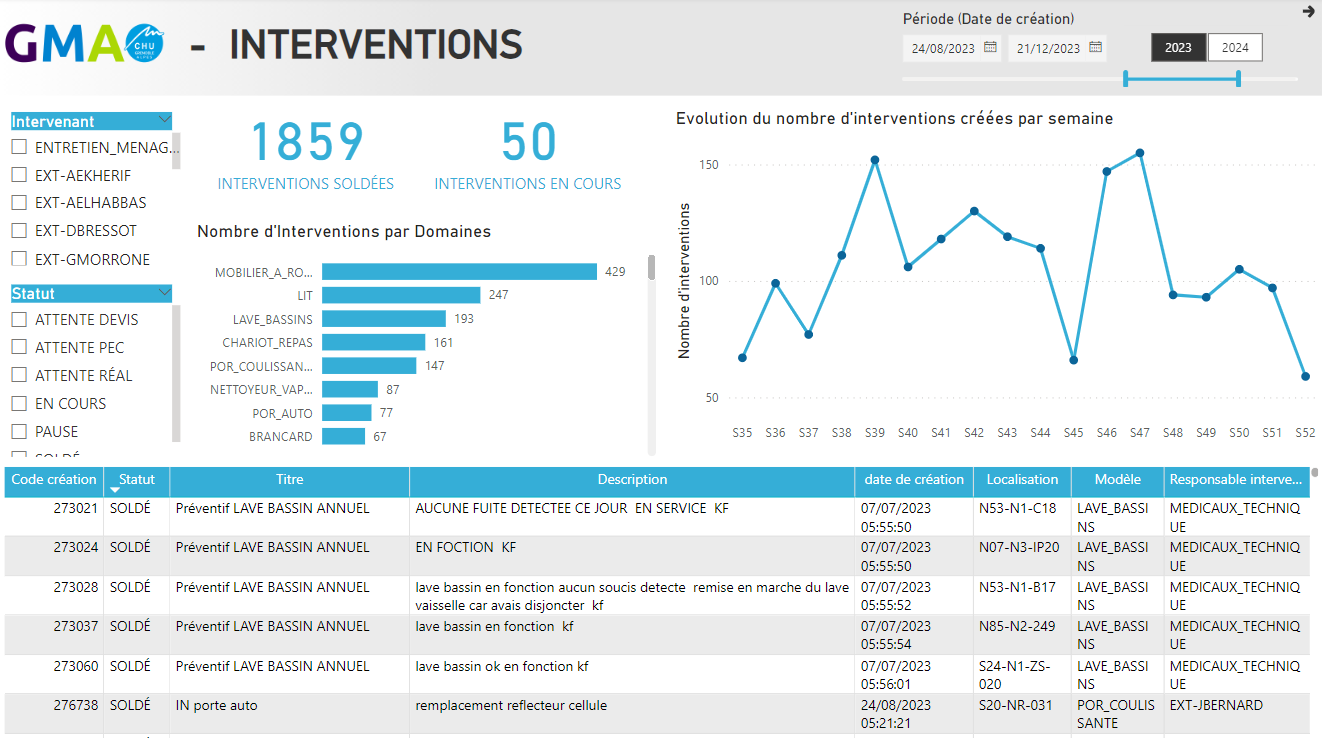

The dashboard page shown, as its layout file describes it:
{"tool":"powerbi","page":{"name":"INTERVENTIONS","canvas":[1280,720],"ordinal":1},"visuals":[{"type":"card","fields":{"Values":["data-WO_OUT_CSV_CHUGA_acc4_final.Code création"]},"box":[404.3,92.2,214.6,102],"z":0},{"type":"card","fields":{"Values":["data-WO_OUT_CSV_CHUGA_acc4_final.Code création"]},"box":[205.7,92.2,181.8,102],"z":1000},{"type":"image","box":[0,0,1280,100.2],"z":2000},{"type":"image","box":[0,19.6,167.2,50.4],"z":3000},{"type":"textbox","box":[47.9,18.6,592.3,70.9],"z":4000},{"type":"slicer","fields":{"Values":["data-WO_OUT_CSV_CHUGA_acc4_final.date début"]},"box":[859.8,6.8,407.5,82.7],"z":5000},{"type":"slicer","fields":{"Values":["data-WO_OUT_CSV_CHUGA_acc4_final.Statut"]},"box":[0,272.6,180.9,176.1],"z":6000},{"type":"slicer","fields":{"Values":["data-WO_OUT_CSV_CHUGA_acc4_final.Responsable intervention"]},"box":[0,106.1,180.9,158],"z":7000},{"type":"tableEx","fields":{"Values":["data-WO_OUT_CSV_CHUGA_acc4_final.Code création","data-WO_OUT_CSV_CHUGA_acc4_final.Statut","data-WO_OUT_CSV_CHUGA_acc4_final.Titre","data-WO_OUT_CSV_CHUGA_acc4_final.Description","data-WO_OUT_CSV_CHUGA_acc4_final.date de création","data-WO_OUT_CSV_CHUGA_acc4_final.Localisation","data-WO_OUT_CSV_CHUGA_acc4_final.Modèle","data-WO_OUT_CSV_CHUGA_acc4_final.Responsable intervention"]},"box":[0,448.4,1280,271.4],"z":8000},{"type":"barChart","title":"Nombre d''Interventions par Domaines","fields":{"Category":["data-WO_OUT_CSV_CHUGA_acc4_final.Modèle"],"Y":["data-WO_OUT_CSV_CHUGA_acc4_final.Code création"]},"box":[187.1,216.4,453.1,232.3],"z":9000},{"type":"lineChart","title":"Evolution du nombre d''interventions créées par semaine","fields":{"Y":["data-WO_OUT_CSV_CHUGA_acc4_final.Code création"],"Category":["Dates table.SemaineAnnee"]},"box":[648.8,106.1,630.8,332.9],"z":10000},{"type":"actionButton","box":[1249.8,0,30.1,28.4],"z":11000},{"type":"slicer","fields":{"Values":["Dates table.date début.Variation.Hiérarchie de dates.Année"]},"box":[1086.2,27.5,157.8,41.7],"z":12000}]}

Visuals, with their boxes in screenshot pixels (x1, y1, x2, y2), scaled from the page's 1280x720 canvas onto the 1322x738 screenshot:
card - data-WO_OUT_CSV_CHUGA_acc4_final.Code création: (x1=418, y1=95, x2=639, y2=199)
card - data-WO_OUT_CSV_CHUGA_acc4_final.Code création: (x1=212, y1=95, x2=400, y2=199)
image: (x1=0, y1=0, x2=1321, y2=103)
image: (x1=0, y1=20, x2=173, y2=72)
textbox: (x1=49, y1=19, x2=661, y2=92)
slicer - data-WO_OUT_CSV_CHUGA_acc4_final.date début: (x1=888, y1=7, x2=1309, y2=92)
slicer - data-WO_OUT_CSV_CHUGA_acc4_final.Statut: (x1=0, y1=279, x2=187, y2=460)
slicer - data-WO_OUT_CSV_CHUGA_acc4_final.Responsable intervention: (x1=0, y1=109, x2=187, y2=271)
tableEx - data-WO_OUT_CSV_CHUGA_acc4_final.Code création x data-WO_OUT_CSV_CHUGA_acc4_final.Statut: (x1=0, y1=460, x2=1321, y2=737)
"Nombre d''Interventions par Domaines" barChart: (x1=193, y1=222, x2=661, y2=460)
"Evolution du nombre d''interventions créées par semaine" lineChart: (x1=670, y1=109, x2=1321, y2=450)
actionButton: (x1=1291, y1=0, x2=1321, y2=29)
slicer - Dates table.date début.Variation.Hiérarchie de dates.Année: (x1=1122, y1=28, x2=1285, y2=71)
